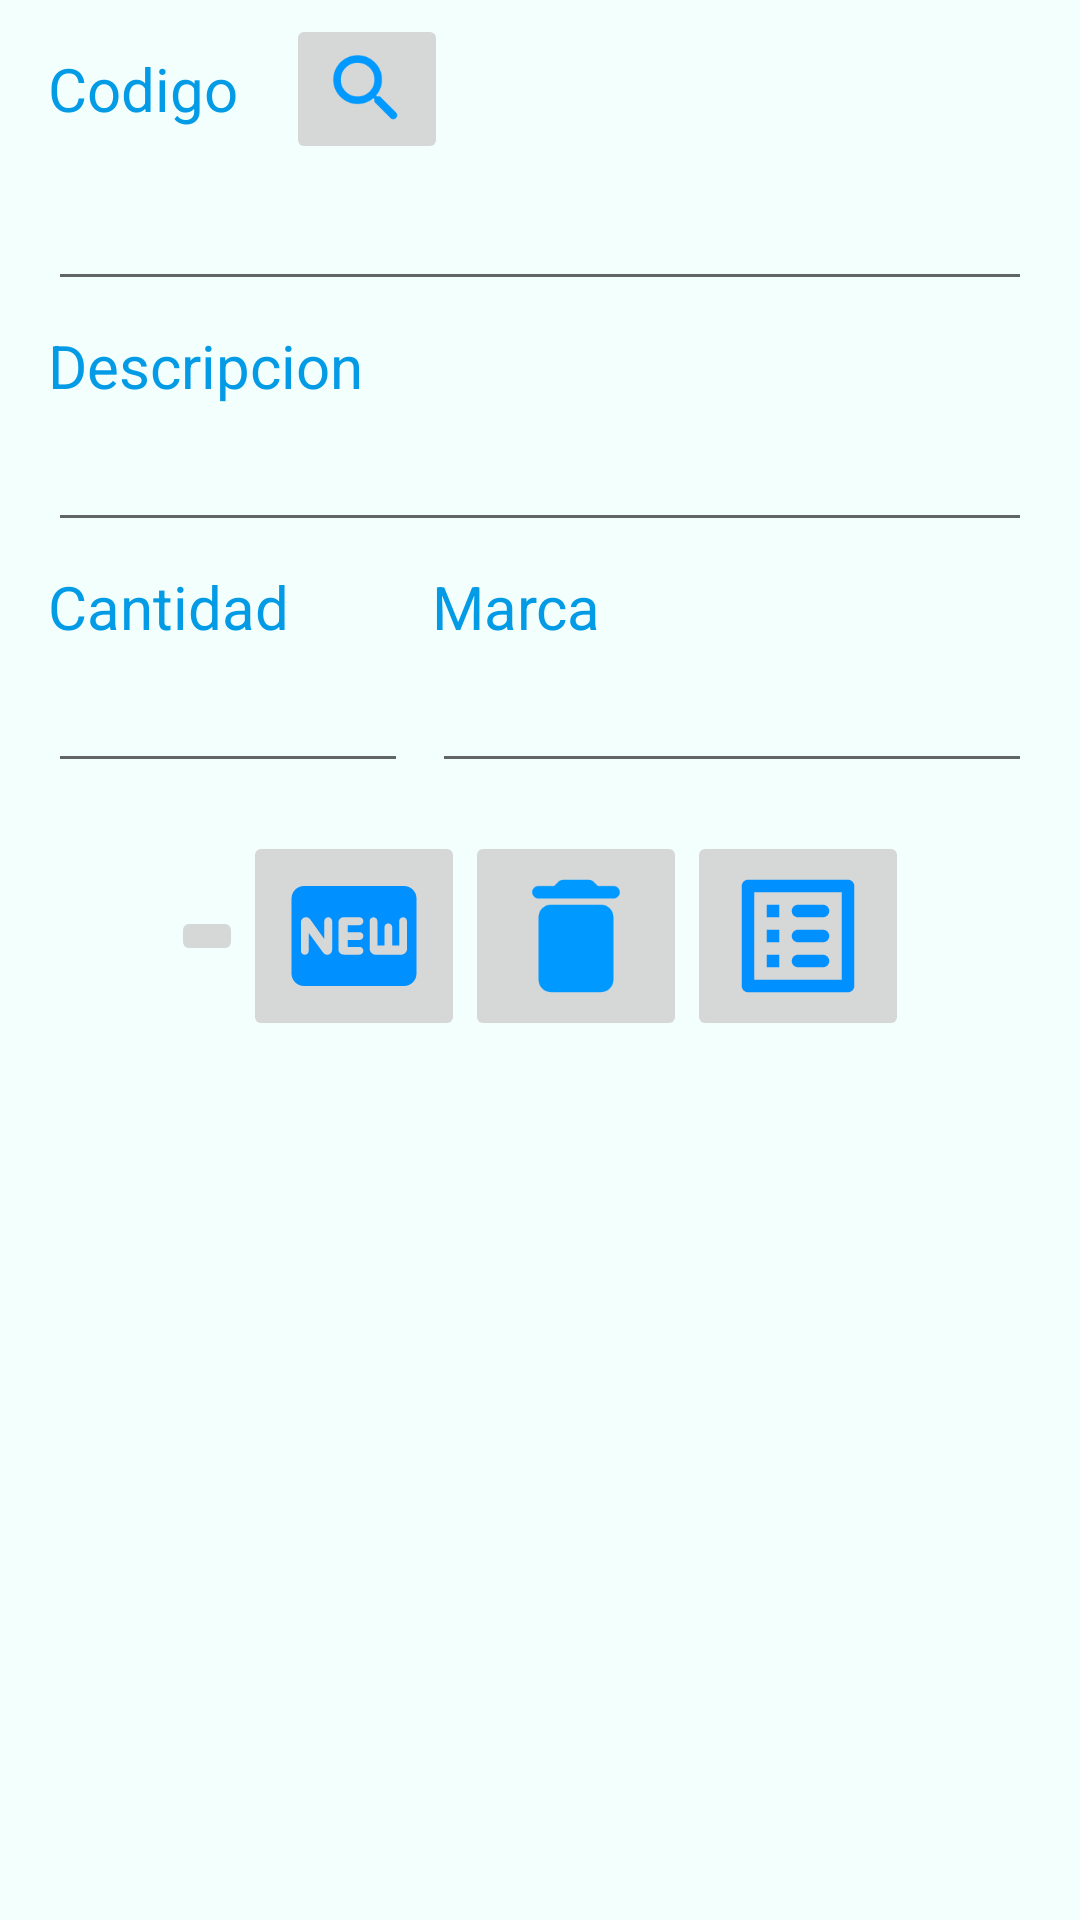

Named icons in this screenshot (1080*1920) and their centers, (x,y):
Eliminar: (576,936)
Lista: (798,936)
search: (367,89)
